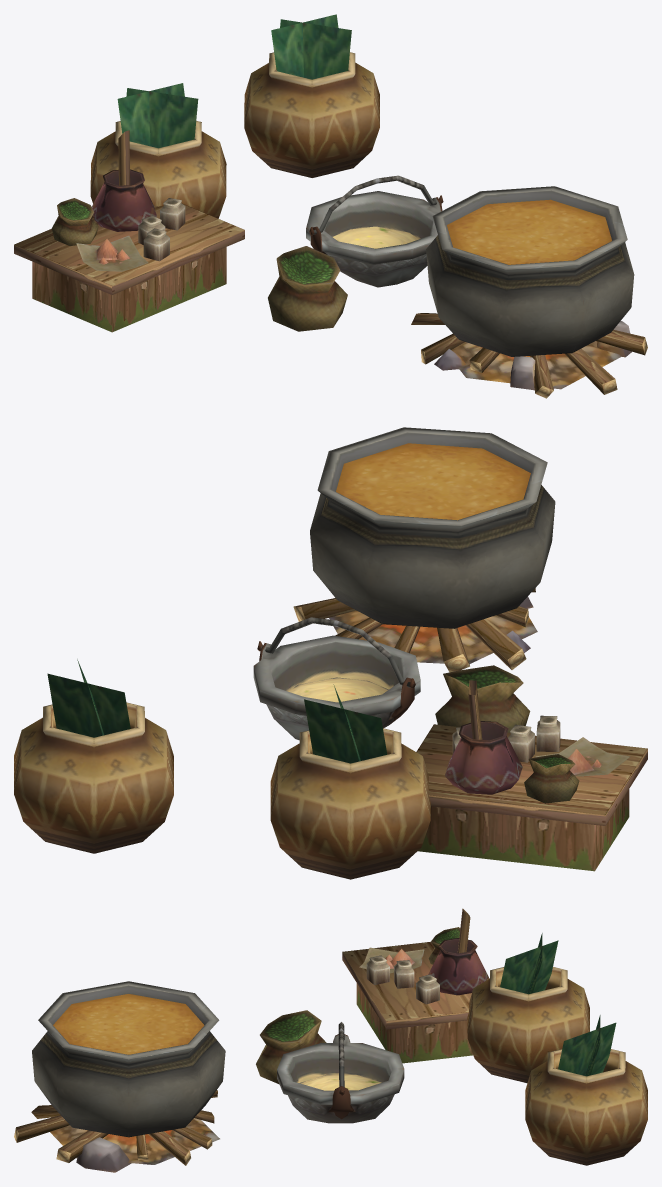
File: Map_08_wooden08.FBX
3 renders of one model, top to bottom at view 1: azimuth 30°, elevation 25°; view 2: azimuth 150°, elevation 25°; view 3: azimuth 270°, elevation 25°, orthographic. The views are drawn at different scales.
Parts seen in each view (by area): view 1: Map_08_wooden08; view 2: Map_08_wooden08; view 3: Map_08_wooden08.
Part boxes in pixels (box(x1,y1,x2,y2)): Map_08_wooden08: box(14, 14, 647, 398); Map_08_wooden08: box(14, 427, 647, 879); Map_08_wooden08: box(14, 908, 647, 1172).
Bounding box in the file's own units: 183 × 57.78 × 255.
Materials: 1 (1 with a texture image).
